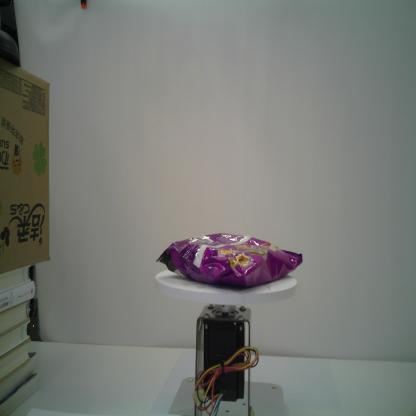Instant Noodles: (155, 232, 303, 288)
